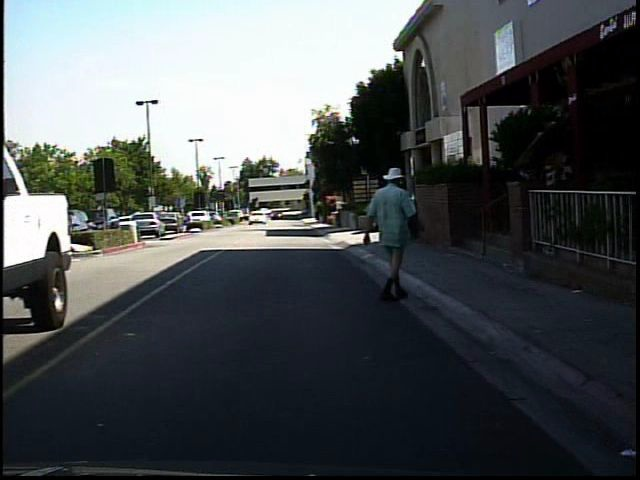person: (363, 157, 425, 306), (47, 197, 75, 267), (181, 204, 197, 229)
